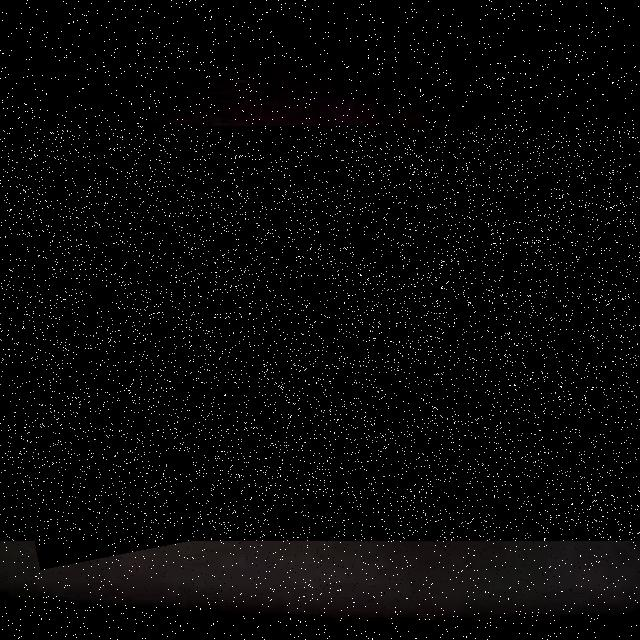dua puluh ribu rupiah: (0, 126, 640, 541)
